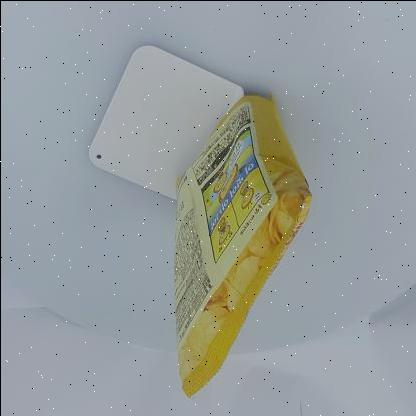Others: (155, 82, 317, 402)
